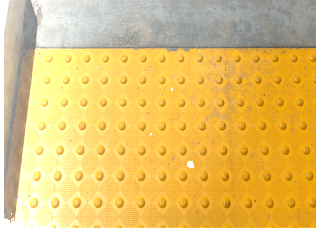Edge: (4, 4, 34, 219)
